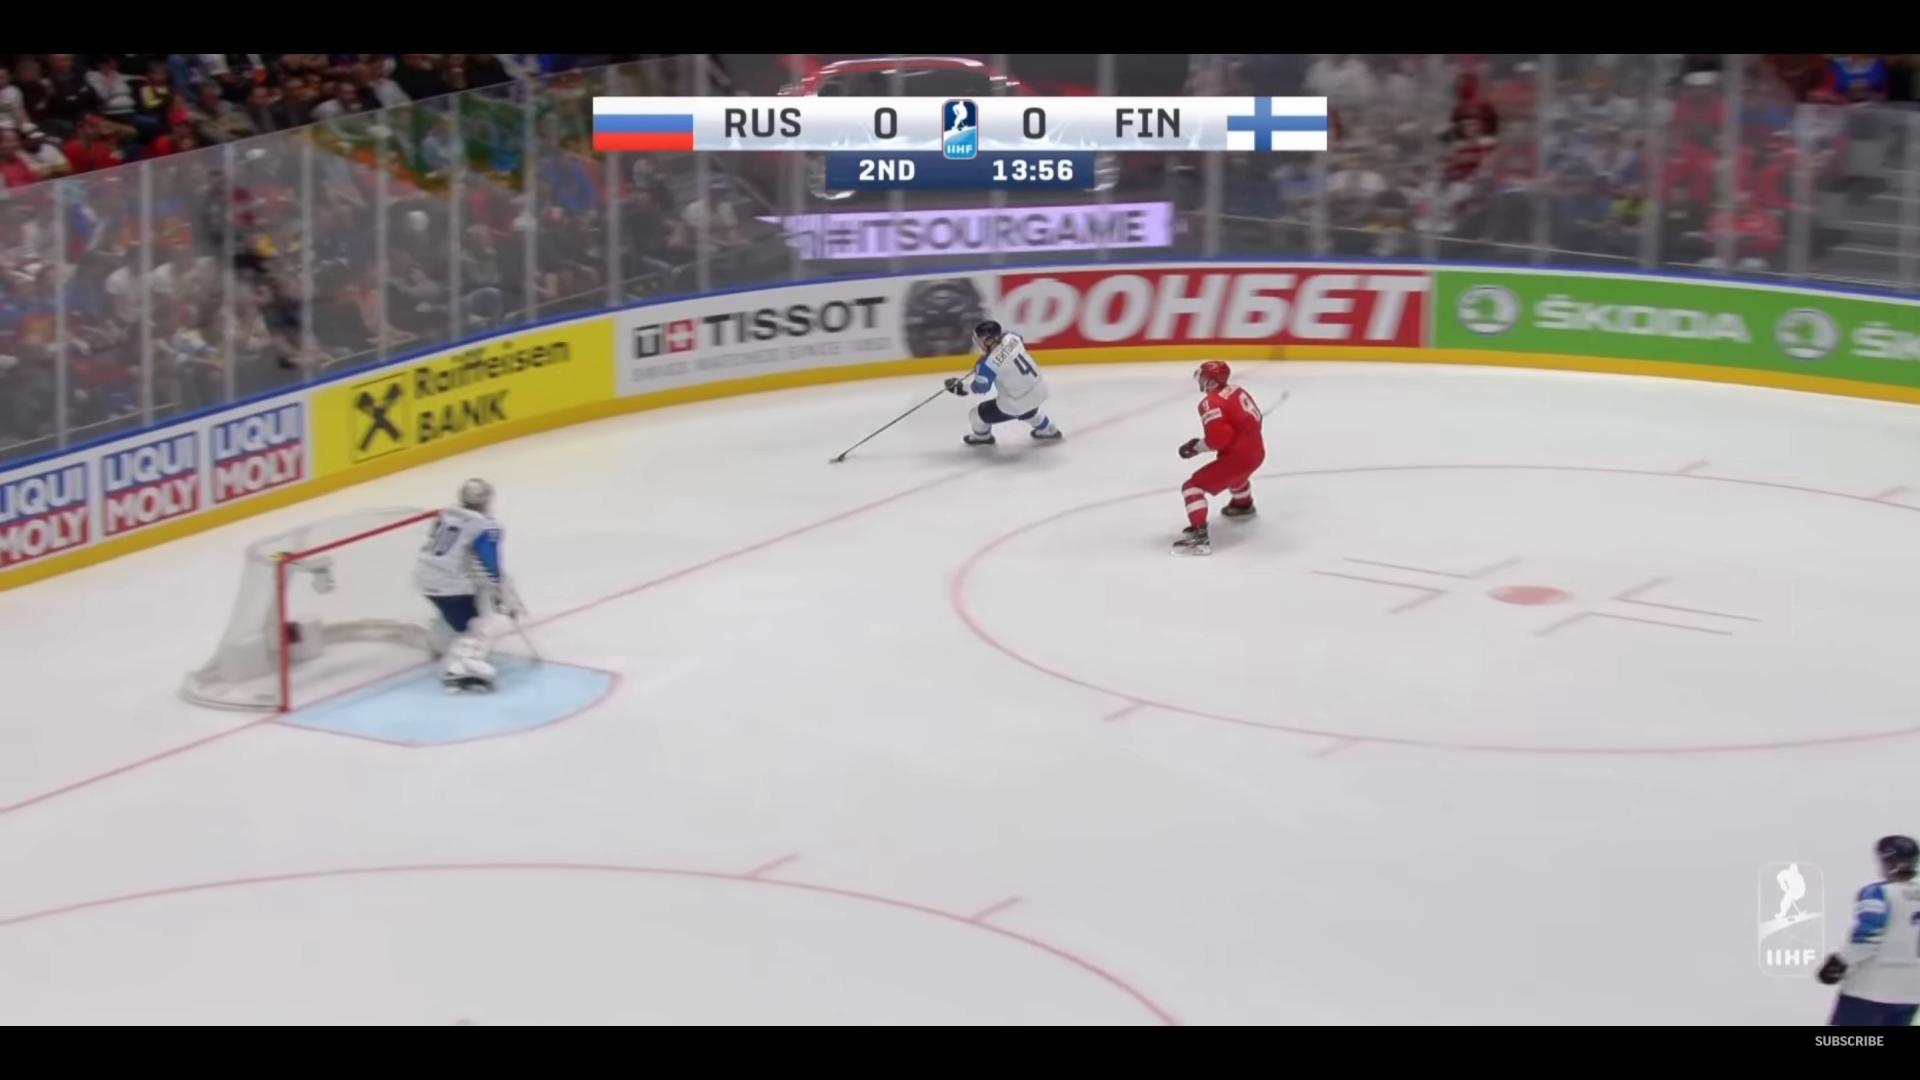puck: (839, 455, 845, 463)
